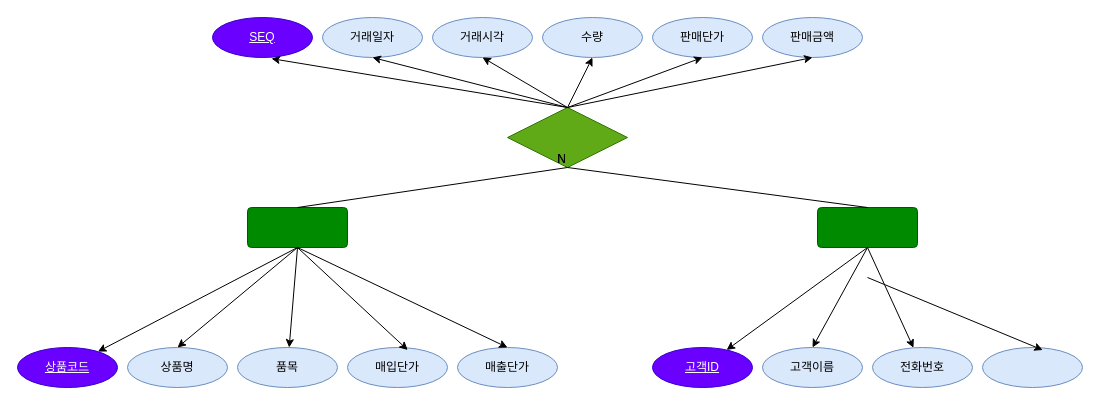
The diagram is 1100 pixels wide and 405 high, and some of its shapes have lost their labels. The shapes that lost their labels are listed below. From the top down, each one's box as (x1, y1, x2, y2) in pixels, then its label:
(506, 106, 628, 168): 판매내역
(246, 206, 348, 248): 상품정보
(816, 206, 918, 248): 고객정보
(982, 346, 1082, 388): 주소
